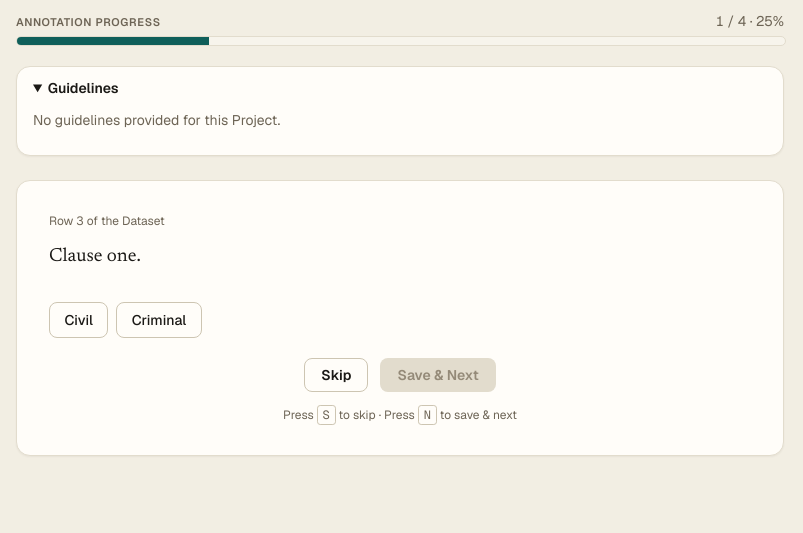
AnnotationWorkspace parity with the host screen › keeps the item and shows why when a save fails
This screenshot has width=803, height=533.
Click the button "Civil".
click(79, 320)  # box [49,302,108,338]
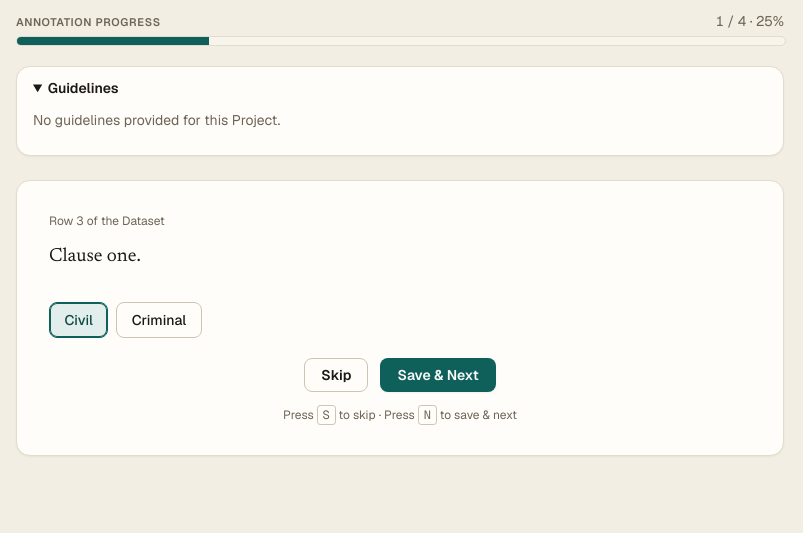
Click the button "Save & Next".
click(438, 375)  # box [380,358,496,392]
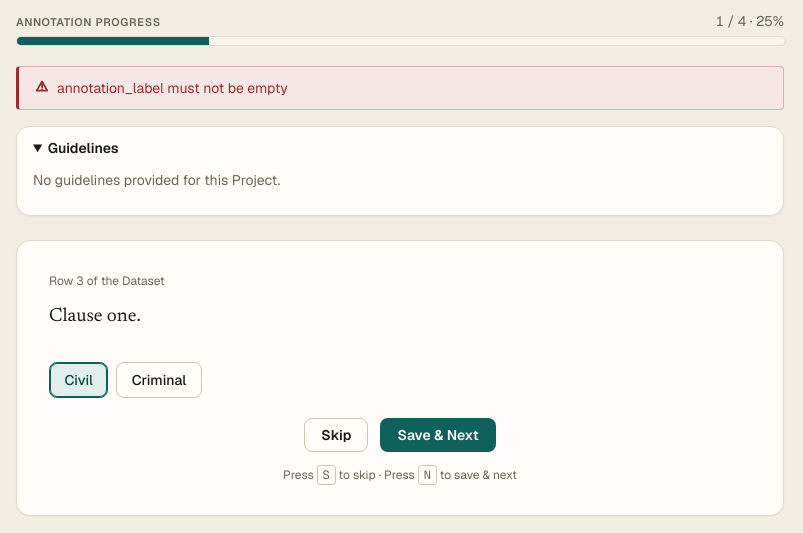
Check: the text "Clause one." is shown, box [49,307,141,326]
Check: the text "annotation_label must not be empty" is shown, box [16,66,784,110]
